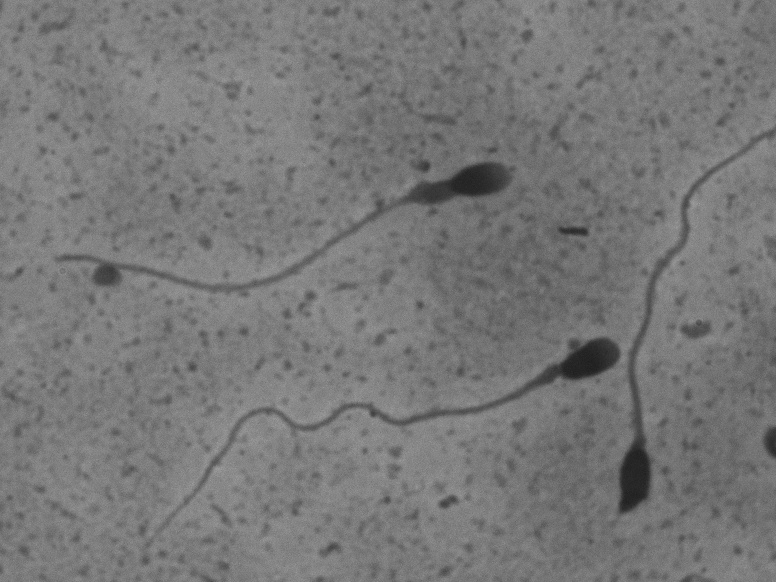Abnormal: (136, 309, 625, 555), (56, 141, 555, 305), (599, 124, 774, 529)
